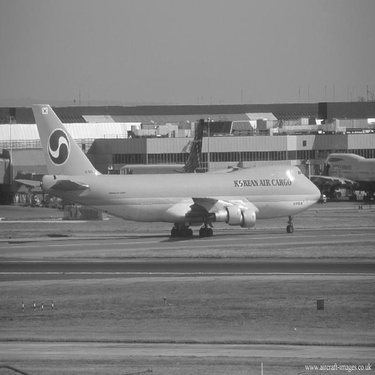airplane: (16, 91, 323, 242), (99, 112, 215, 188), (306, 142, 374, 196)
